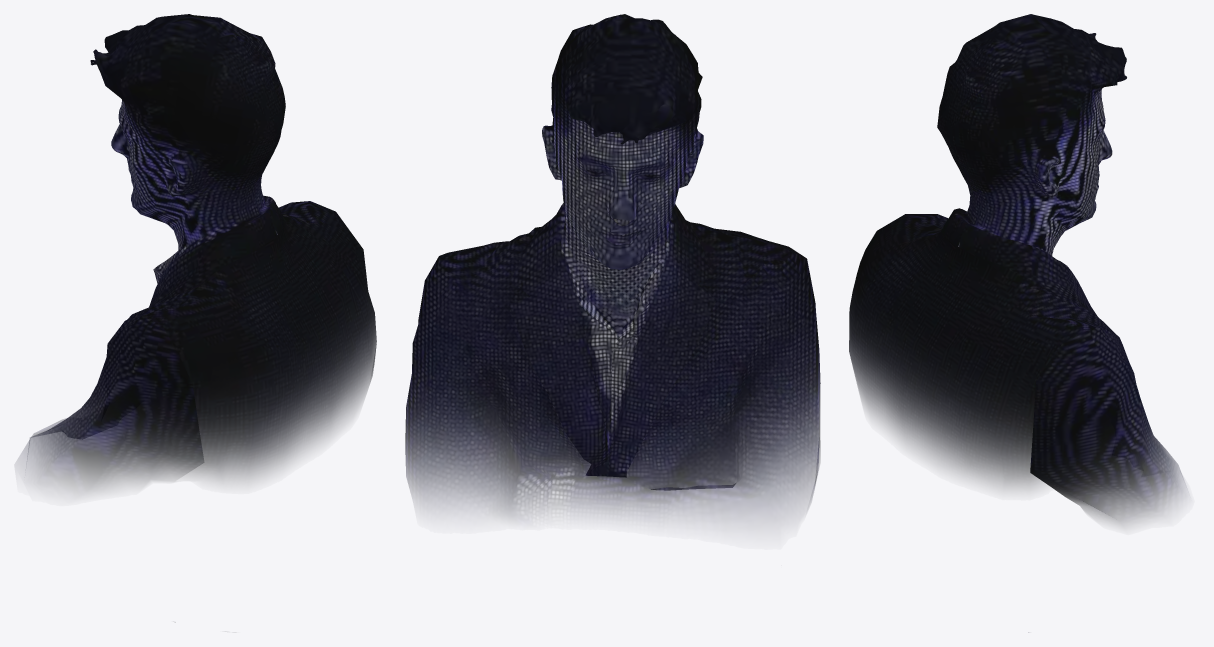
Rendered from Marco_V2_Hologram_optimized.glb.
3 views of the same model, side by side, from view 1: azimuth 30°, elevation 25°; view 2: azimuth 150°, elevation 25°; view 3: azimuth 270°, elevation 25° (orthographic). The views are drawn at different scales.
Parts seen in each view (by area): view 1: Marco_Hologram_Ex; view 2: Marco_Hologram_Ex; view 3: Marco_Hologram_Ex.
Boxes of the visible parts, x1,y1,x2,y2 form: Marco_Hologram_Ex: [17, 14, 376, 492]; Marco_Hologram_Ex: [405, 14, 820, 521]; Marco_Hologram_Ex: [849, 14, 1186, 632].
Bounding box in the file's own units: 82.48 × 127 × 73.9.
1 material, 1 textured.
